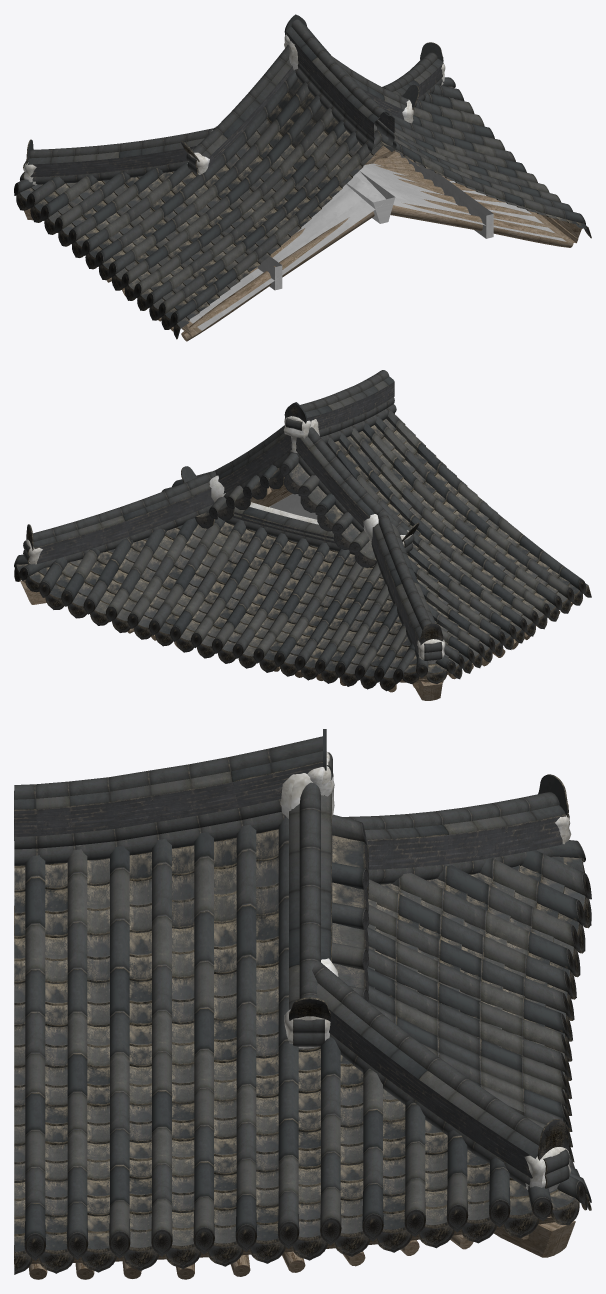
File: SM_JWD_Roof02a.fbx
3 renders of one model, top to bottom at view 1: azimuth 30°, elevation 25°; view 2: azimuth 150°, elevation 25°; view 3: azimuth 270°, elevation 25°, orthographic. The views are drawn at different scales.
Parts seen in each view (by area): view 1: SM_JWD_Roof02a; view 2: SM_JWD_Roof02a; view 3: SM_JWD_Roof02a.
Boxes of the visible parts, left/top/right/bottom form: SM_JWD_Roof02a: left=14, top=14, right=591, bottom=341; SM_JWD_Roof02a: left=14, top=370, right=591, bottom=700; SM_JWD_Roof02a: left=14, top=729, right=591, bottom=1279.
Bounding box in the file's own units: 634 × 411 × 303.
Materials: 2 (2 with a texture image).
